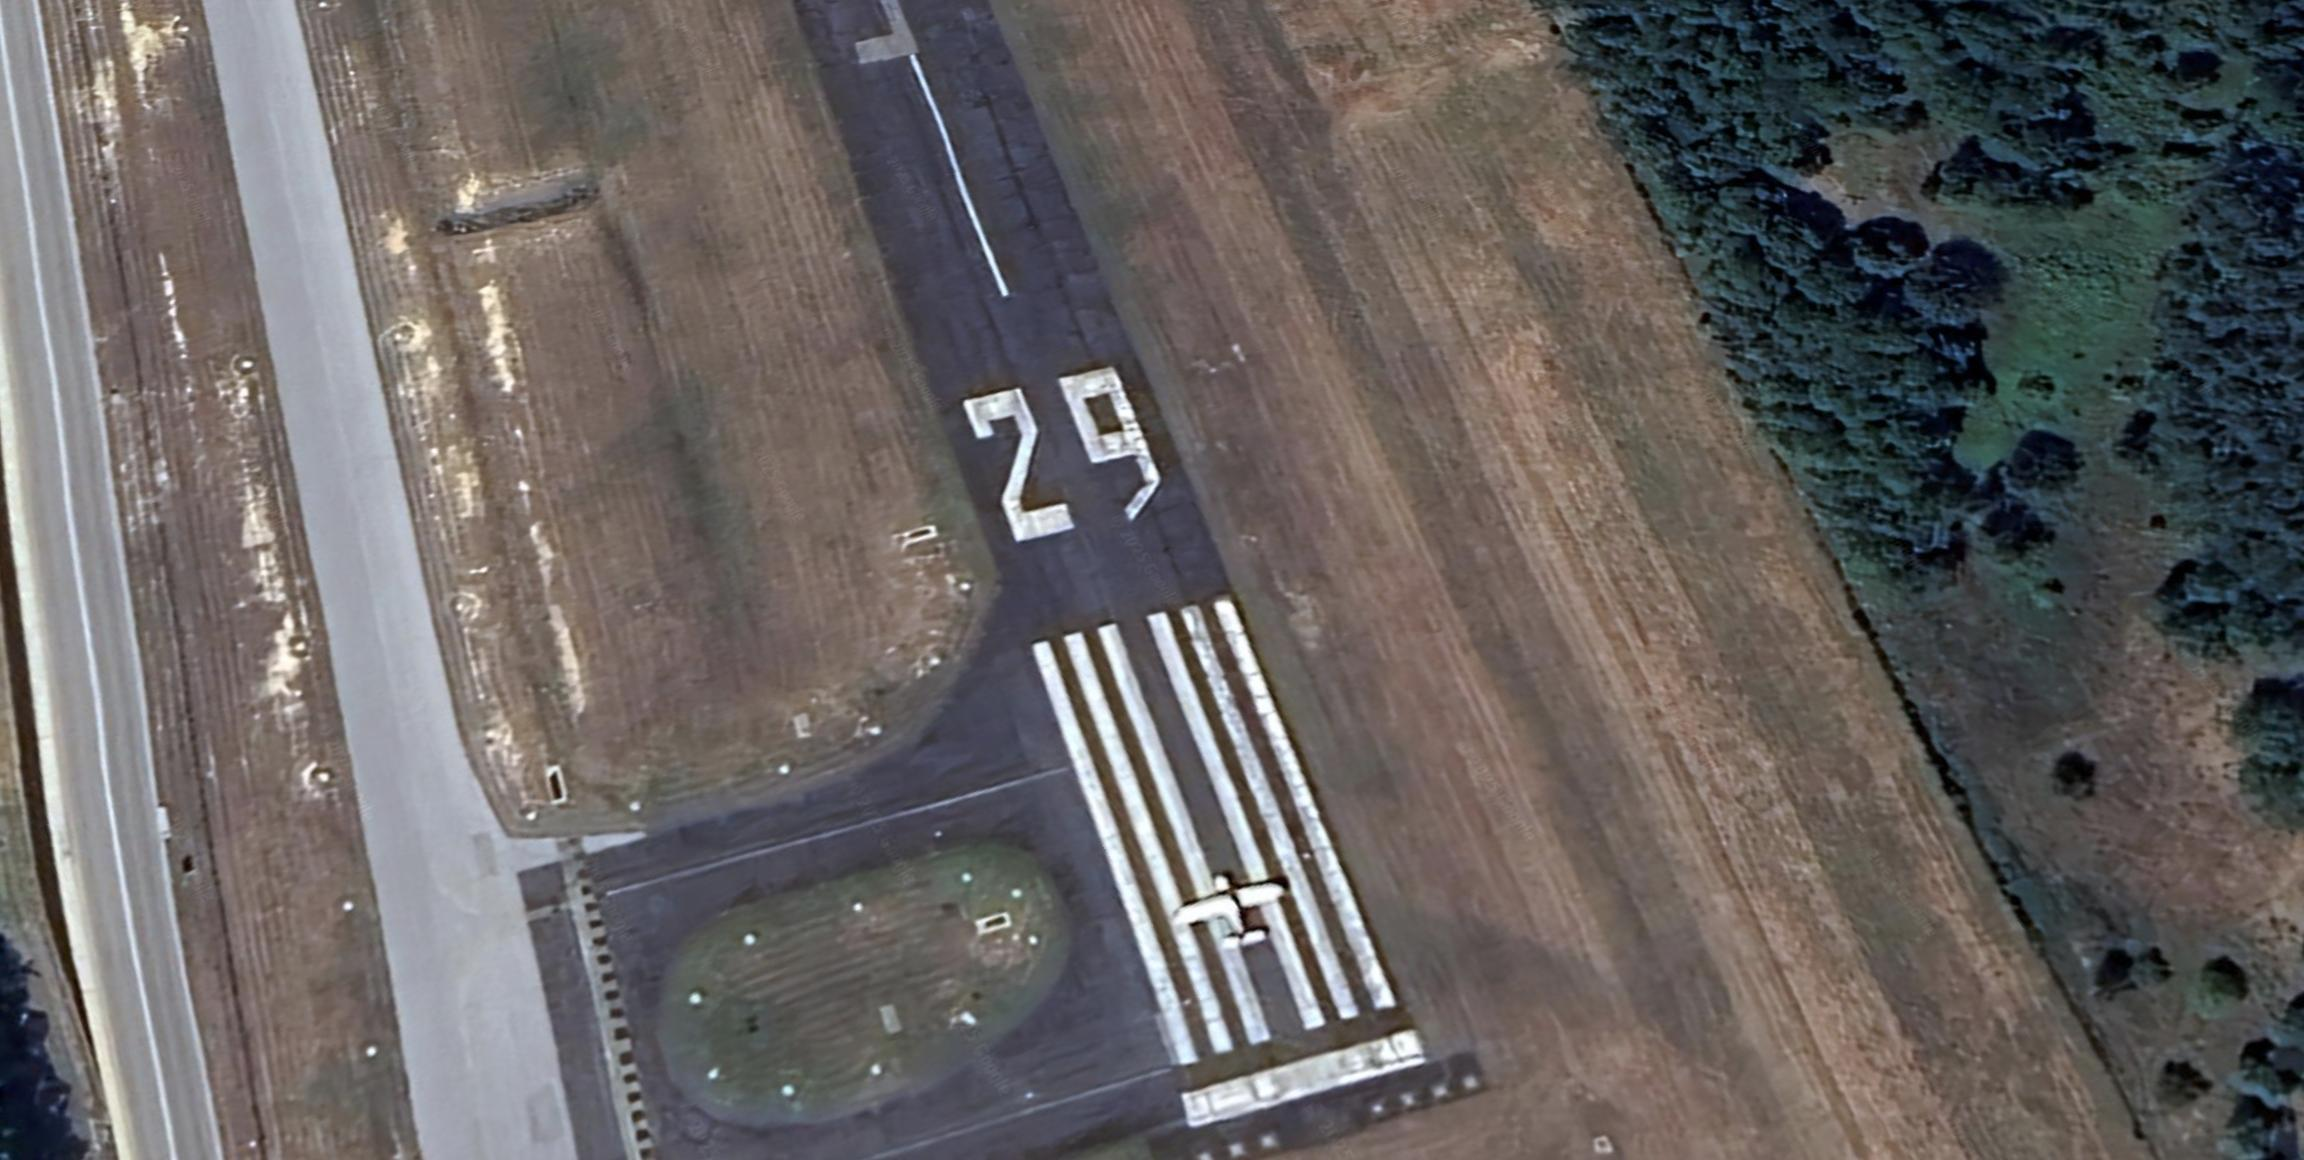Airplane: (1159, 867, 1290, 956)
